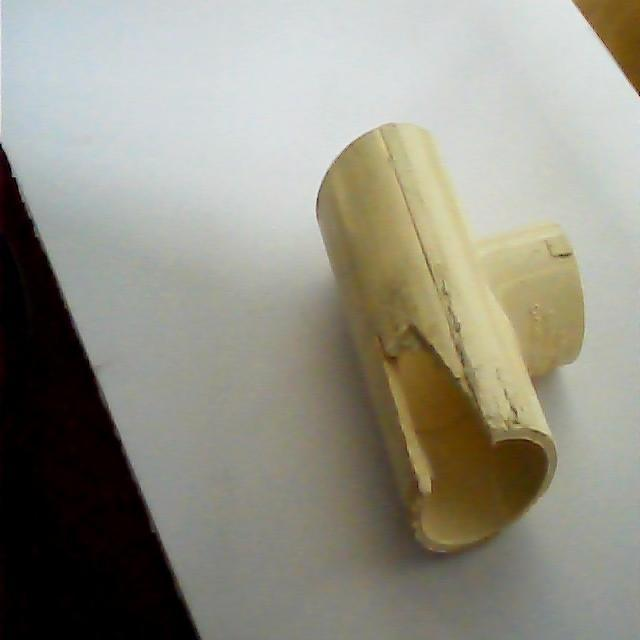Defective: (383, 327, 495, 502)
T Joint: (314, 123, 585, 559)
